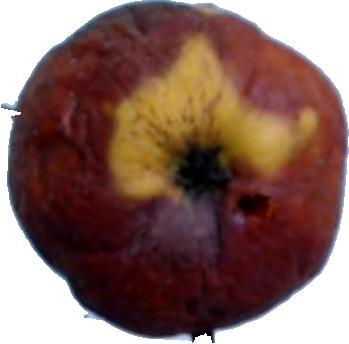Apple Overripe: (0, 0, 349, 315)
